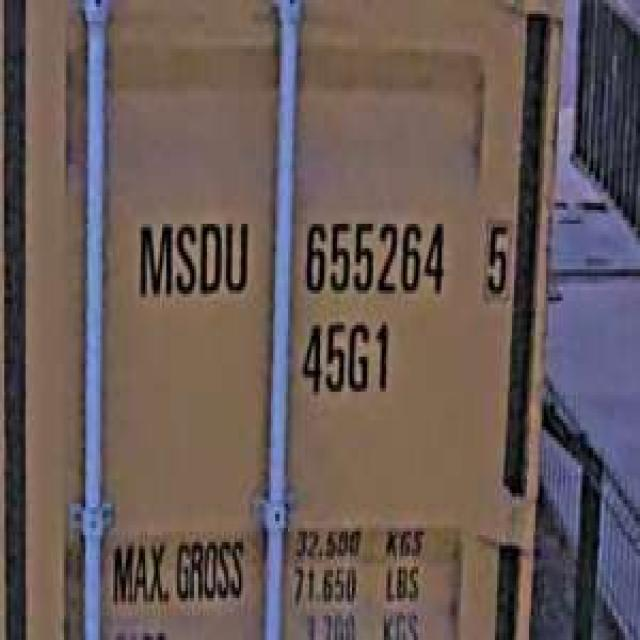dv: (476, 206, 514, 304)
owner: (132, 203, 254, 308)
serial: (299, 203, 450, 304)
size: (294, 311, 395, 406)
